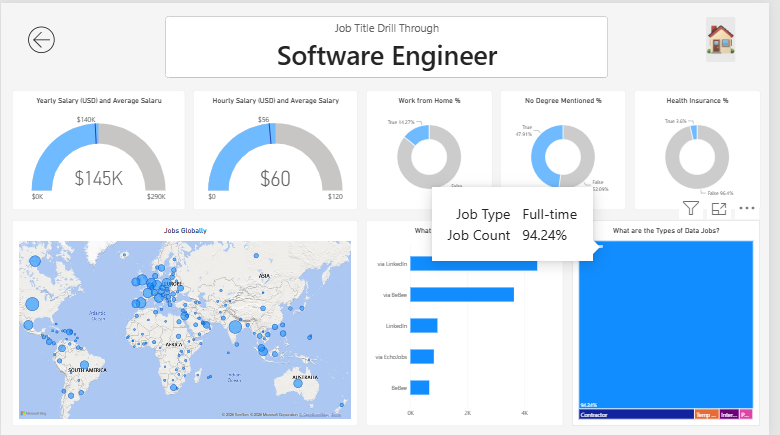

Layout of this report page (visuals, bound fields, positions):
{"tool":"powerbi","page":{"name":"Job Title Drill Through","canvas":[1920,1080],"ordinal":2},"visuals":[{"type":"cardVisual","fields":{"Data":["Min(job_postings_flat.job_title_short)"]},"box":[411.1,33.3,1108.9,155.6],"z":1000},{"type":"actionButton","box":[28.9,34.2,142.1,113.2],"z":2000},{"type":"gauge","fields":{"TargetValue":["Avg(Job_Postings_Flat.salary_year_avg)1"],"Y":["Median(Job_Postings_Flat.salary_year_avg)"]},"box":[28.4,216.4,432.8,300],"z":3000},{"type":"gauge","fields":{"TargetValue":["Avg(Job_Postings_Flat.salary_hour_avg)1"],"Y":["Median(Job_Postings_Flat.salary_hour_avg)"]},"box":[480.6,216.4,411.9,300],"z":4000},{"type":"donutChart","title":"Work from Home %","fields":{"Category":["Job_Postings_Flat.job_work_from_home"],"Y":["CountNonNull(Job_Postings_Flat.job_work_from_home)"]},"box":[911.9,216.4,315.8,300],"z":5000},{"type":"donutChart","title":"Health Insurance %","fields":{"Category":["Job_Postings_Flat.job_health_insurance"],"Y":["CountNonNull(Job_Postings_Flat.job_health_insurance)"]},"box":[1583.6,216.4,315.8,300],"z":6000},{"type":"donutChart","title":"No Degree Mentioned %","fields":{"Category":["Job_Postings_Flat.job_no_degree_mention"],"Y":["CountNonNull(Job_Postings_Flat.job_no_degree_mention)"]},"box":[1247.5,217.5,315,300],"z":7000},{"type":"map","title":"Jobs Globally","fields":{"Category":["Job_Postings_Flat.job_country"],"Size":["CountNonNull(Job_Postings_Flat.job_title_short)"]},"box":[27.5,542.5,865,515],"z":8000},{"type":"treemap","title":"What are the Types of Data Jobs?","fields":{"Group":["Job_Postings_Flat.job_schedule_type"],"Values":["CountNonNull(Job_Postings_Flat.job_title_short)"]},"box":[1427.5,542.5,470,515],"z":9000},{"type":"barChart","title":"What Platforms has most jobs?","fields":{"Category":["Job_Postings_Flat.job_via"],"Y":["CountNonNull(Job_Postings_Flat.job_via)"]},"box":[912.5,542.5,492.5,515],"z":10000},{"type":"actionButton","box":[1762.4,34,74.4,112.7],"z":11000}]}

Visuals, with their boxes in screenshot pixels (x1, y1, x2, y2), scaled from the page's 1920x1080 canvas onto the 780x435 screenshot:
cardVisual - Min(job_postings_flat.job_title_short): box(167, 13, 618, 76)
actionButton: box(12, 14, 69, 59)
gauge - Avg(Job_Postings_Flat.salary_year_avg)1 x Median(Job_Postings_Flat.salary_year_avg): box(12, 87, 187, 208)
gauge - Avg(Job_Postings_Flat.salary_hour_avg)1 x Median(Job_Postings_Flat.salary_hour_avg): box(195, 87, 363, 208)
"Work from Home %" donutChart: box(370, 87, 499, 208)
"Health Insurance %" donutChart: box(643, 87, 772, 208)
"No Degree Mentioned %" donutChart: box(507, 88, 635, 208)
"Jobs Globally" map: box(11, 219, 363, 426)
"What are the Types of Data Jobs?" treemap: box(580, 219, 771, 426)
"What Platforms has most jobs?" barChart: box(371, 219, 571, 426)
actionButton: box(716, 14, 746, 59)
